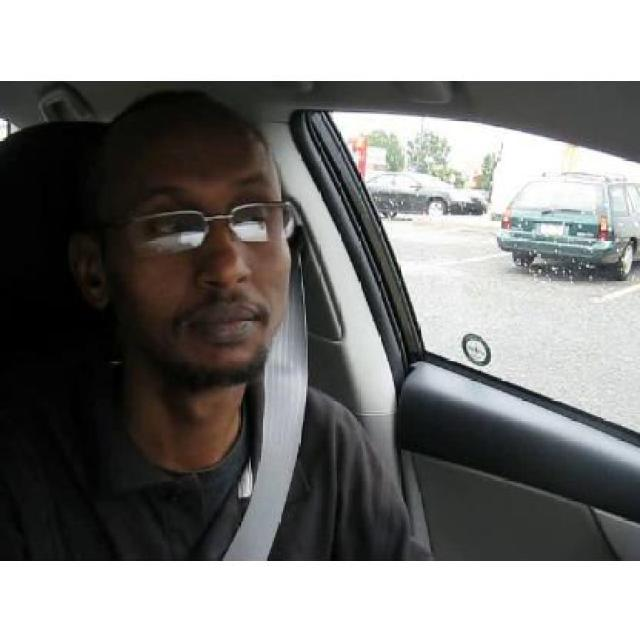attentif: (72, 93, 294, 387)
